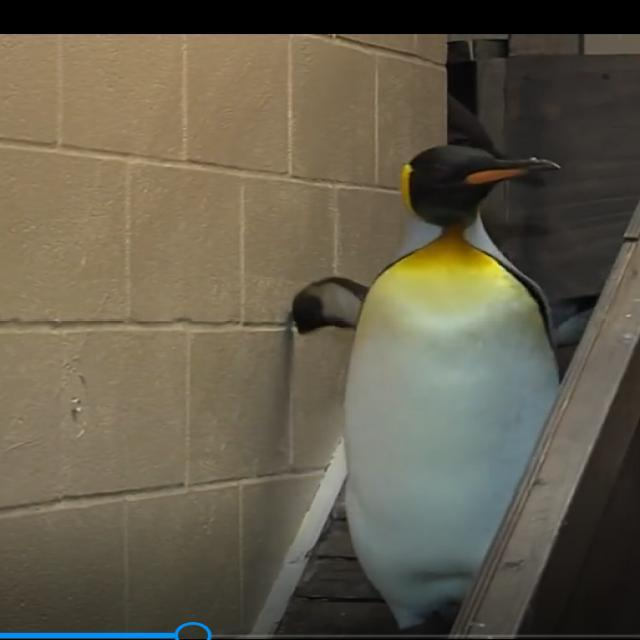Penguin: (290, 118, 620, 630)
